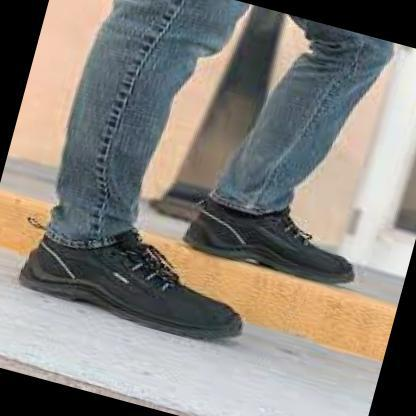safety-shoe: (0, 206, 265, 369), (170, 176, 379, 302)
